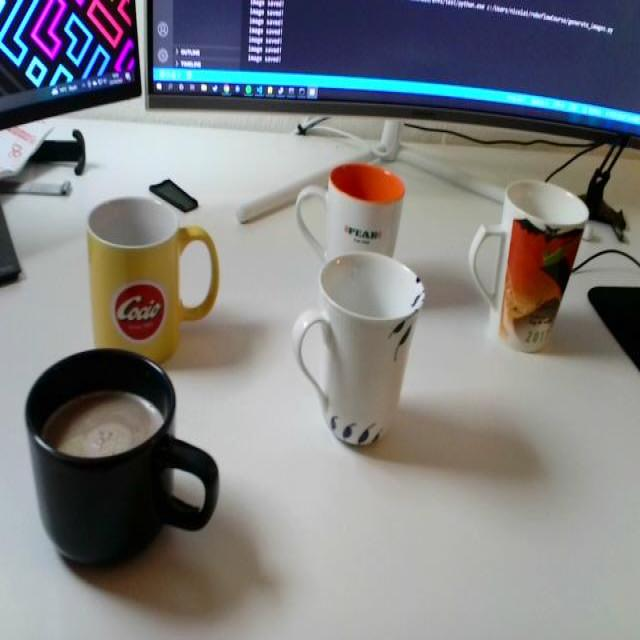cup: (24, 328, 222, 587), (292, 245, 430, 472), (462, 160, 592, 373), (82, 180, 226, 370), (289, 150, 411, 270)
